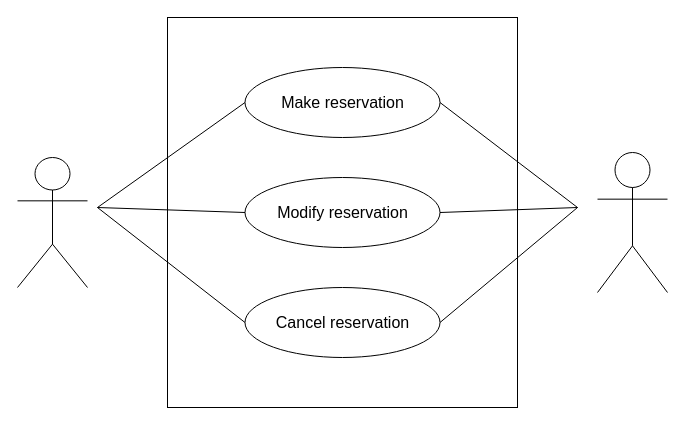
The diagram is 685 pixels wide and 425 high, and some of its shapes have lost their labels. Here are the shapes that lost their labels. From the top down, the centre of each, then its label:
[52,222]: Guest
[632,222]: Hotel System
